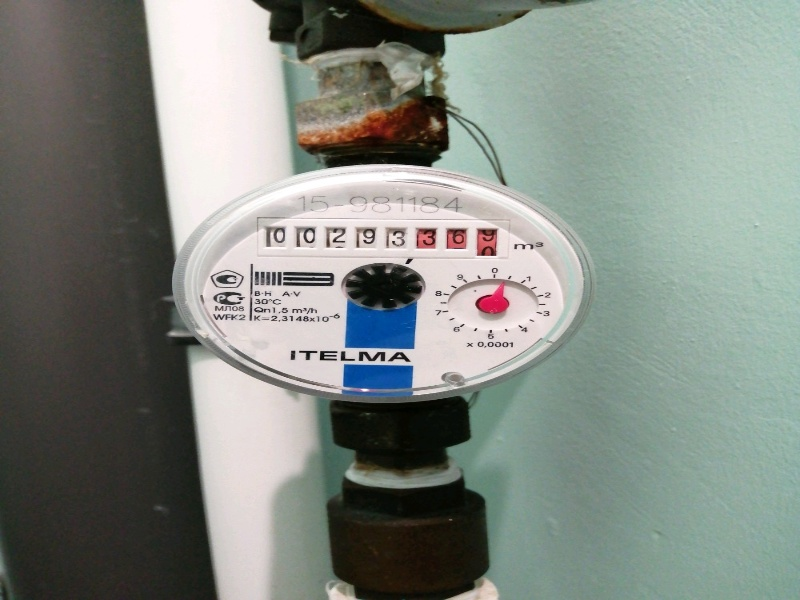meter: (260, 214, 504, 270)
